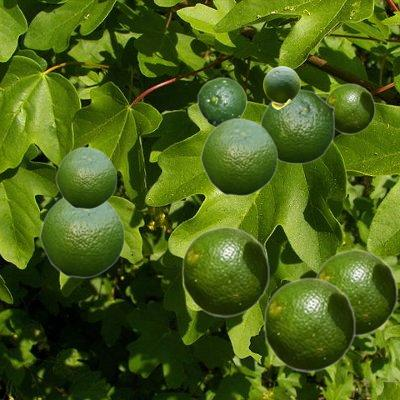calamansi: (263, 277, 355, 371), (181, 226, 269, 316), (315, 249, 397, 335), (39, 197, 124, 277), (200, 117, 277, 195), (260, 89, 334, 163), (55, 146, 116, 208), (197, 77, 246, 127), (326, 83, 374, 133), (263, 66, 299, 108)
